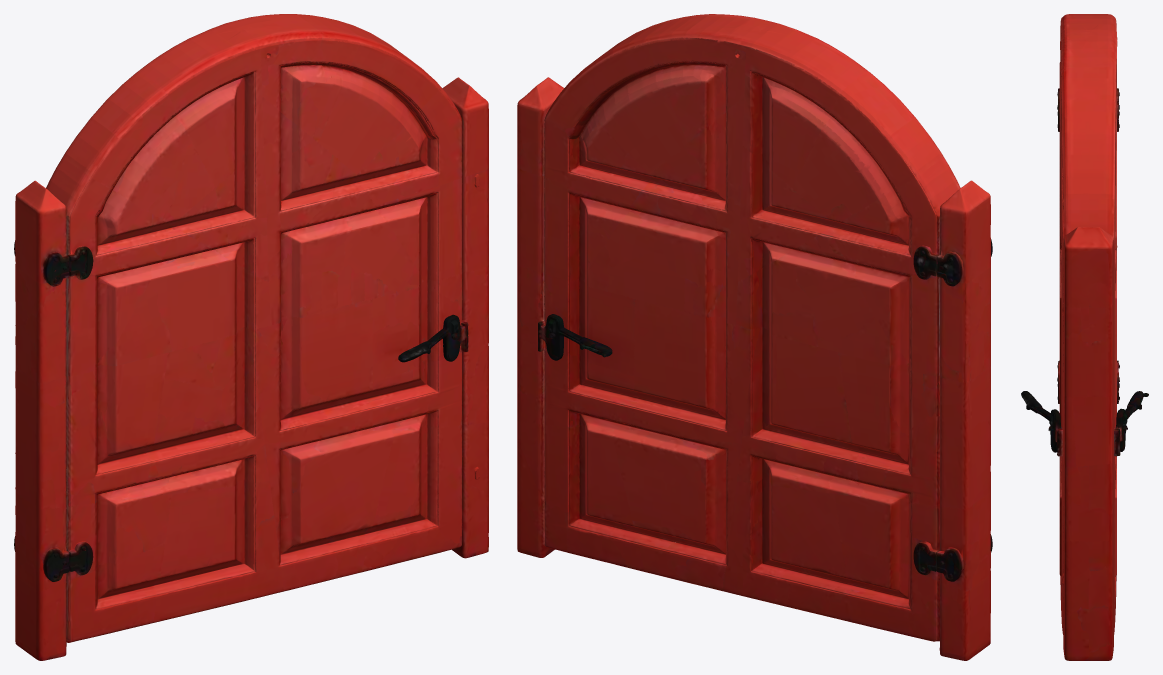
File: redgate.glb
3 renders of one model, left to right at view 1: azimuth 30°, elevation 25°; view 2: azimuth 150°, elevation 25°; view 3: azimuth 270°, elevation 25°, orthographic. The views are drawn at different scales.
Visible parts, largest first — view 1: tripo_node_c0d45a21-6d6c-4f2e-81f7-c9159ead238f; view 2: tripo_node_c0d45a21-6d6c-4f2e-81f7-c9159ead238f; view 3: tripo_node_c0d45a21-6d6c-4f2e-81f7-c9159ead238f.
Part boxes in pixels (x1=…): tripo_node_c0d45a21-6d6c-4f2e-81f7-c9159ead238f: x1=14, y1=14, x2=488, y2=660; tripo_node_c0d45a21-6d6c-4f2e-81f7-c9159ead238f: x1=517, y1=14, x2=992, y2=660; tripo_node_c0d45a21-6d6c-4f2e-81f7-c9159ead238f: x1=1021, y1=14, x2=1148, y2=660.
Size of the model in its own units: 0.8107 by 0.9775 by 0.2158.
Materials: 1 (1 with a texture image).
